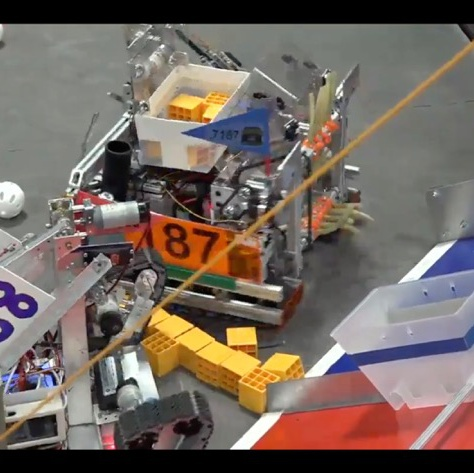robot: (57, 22, 366, 331), (0, 207, 216, 448)
